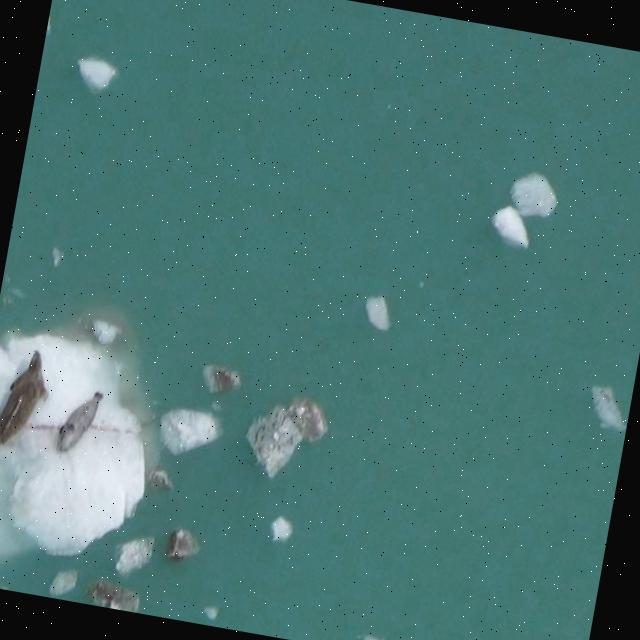seal: (0, 351, 66, 451), (49, 387, 111, 456)
